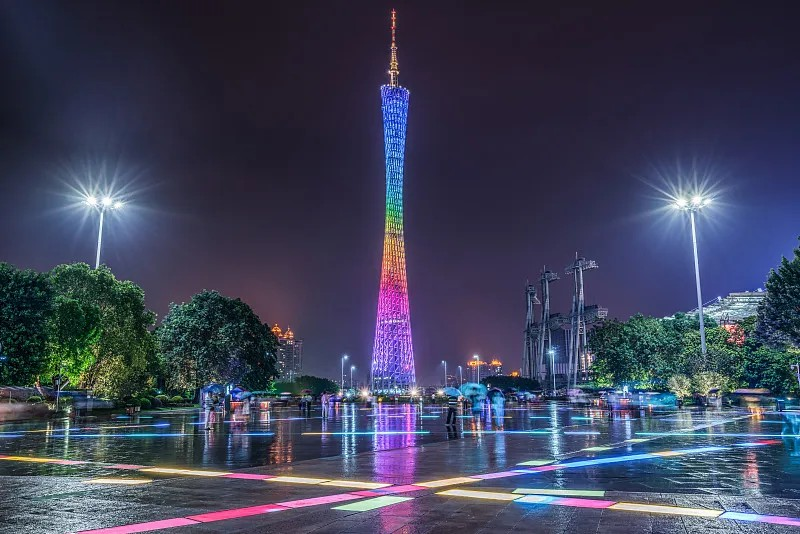Canton: (367, 10, 418, 389)
